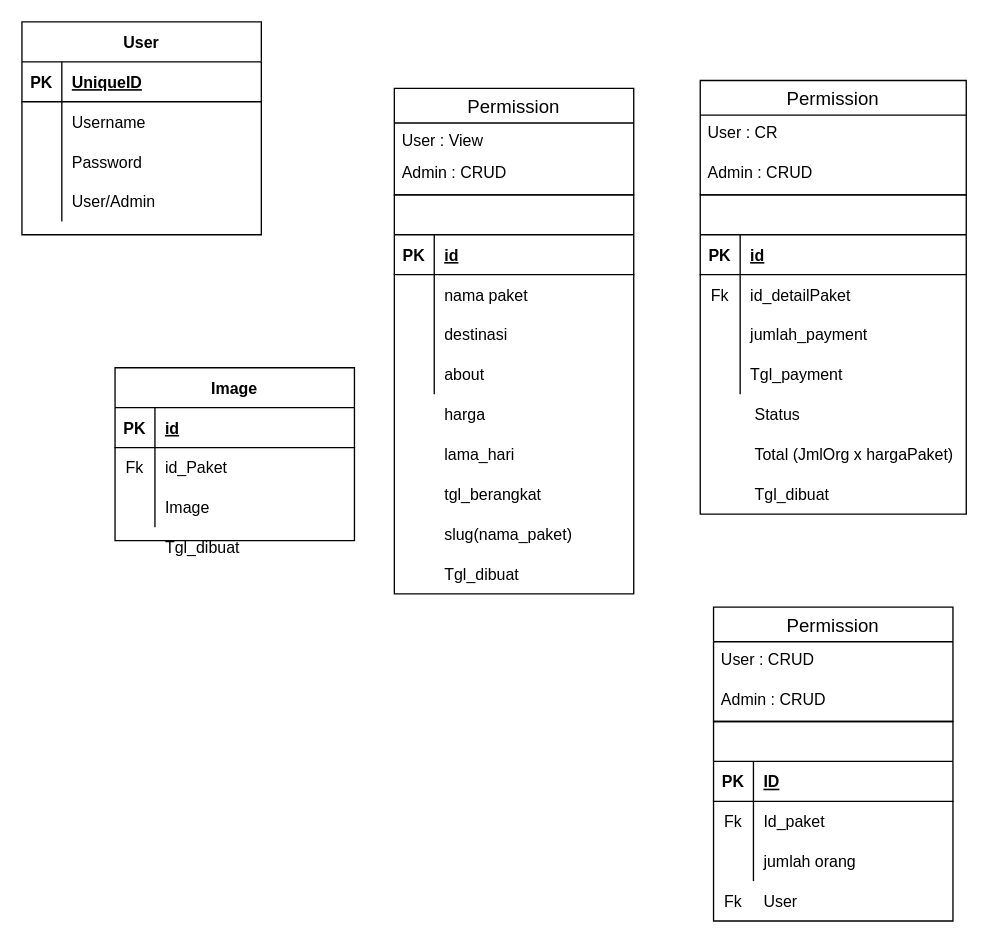
The diagram is 988 pixels wide and 943 high, and some of its shapes have lost their labels. The shapes that lost their labels are listed below. From the top down, each one's box as (x1, y1, x2, y2) in pixels, then its label:
(699, 194, 966, 514): Transaksi
(393, 194, 634, 594): Paket Travel
(712, 720, 953, 921): DETAIL_Transaksi
